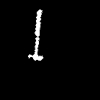half_double_crochet: (28, 10, 42, 59)
